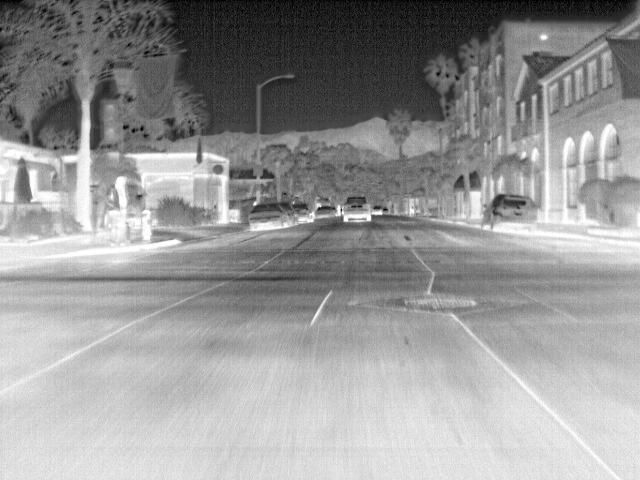car: (482, 193, 538, 232), (249, 204, 291, 230), (343, 196, 372, 222), (279, 203, 300, 226), (292, 203, 311, 223), (316, 206, 336, 218), (370, 204, 386, 216)
person: (107, 174, 130, 245), (334, 202, 343, 216)
